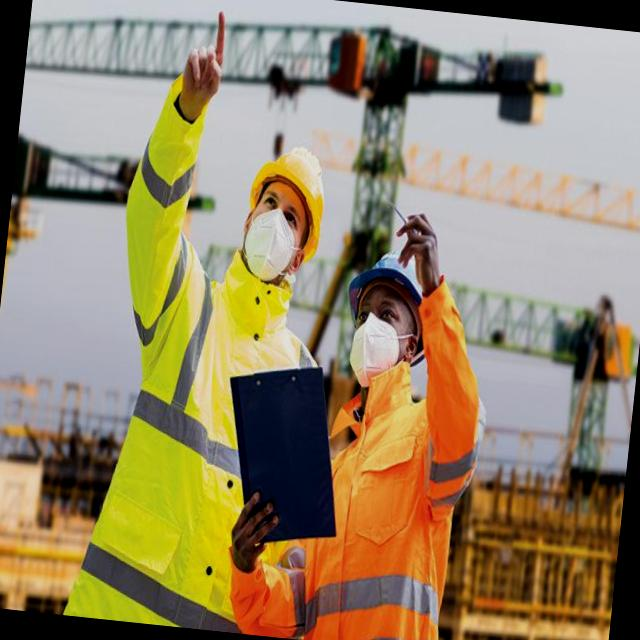helmet: (245, 134, 332, 254), (346, 237, 433, 316)
no-goggles: (342, 292, 416, 338), (244, 188, 316, 232)
vest: (89, 273, 281, 634), (319, 391, 482, 640)
